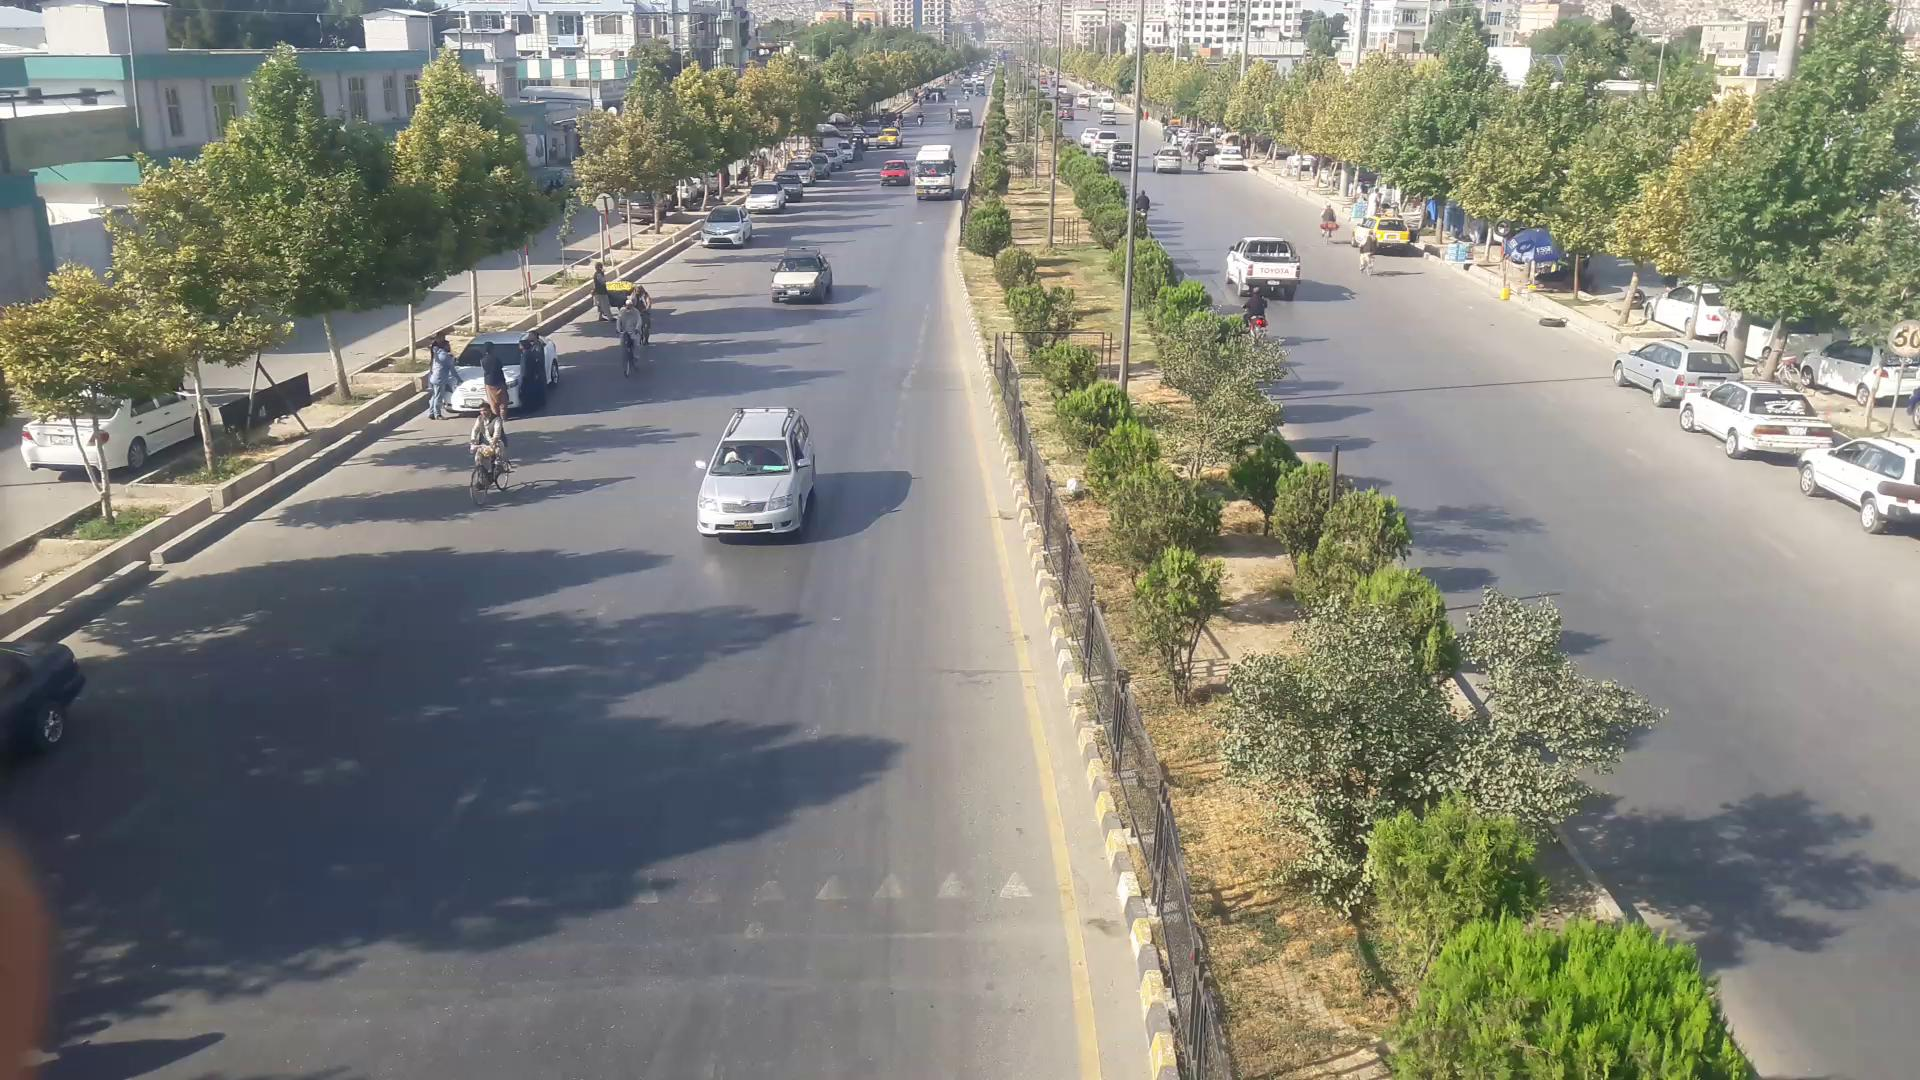bus: (915, 145, 955, 198)
car: (695, 407, 810, 537), (1679, 378, 1836, 460), (1800, 439, 1920, 545), (1611, 345, 1750, 410), (1226, 239, 1299, 290), (767, 252, 835, 305), (700, 208, 752, 248), (745, 181, 783, 214), (881, 160, 913, 185)
